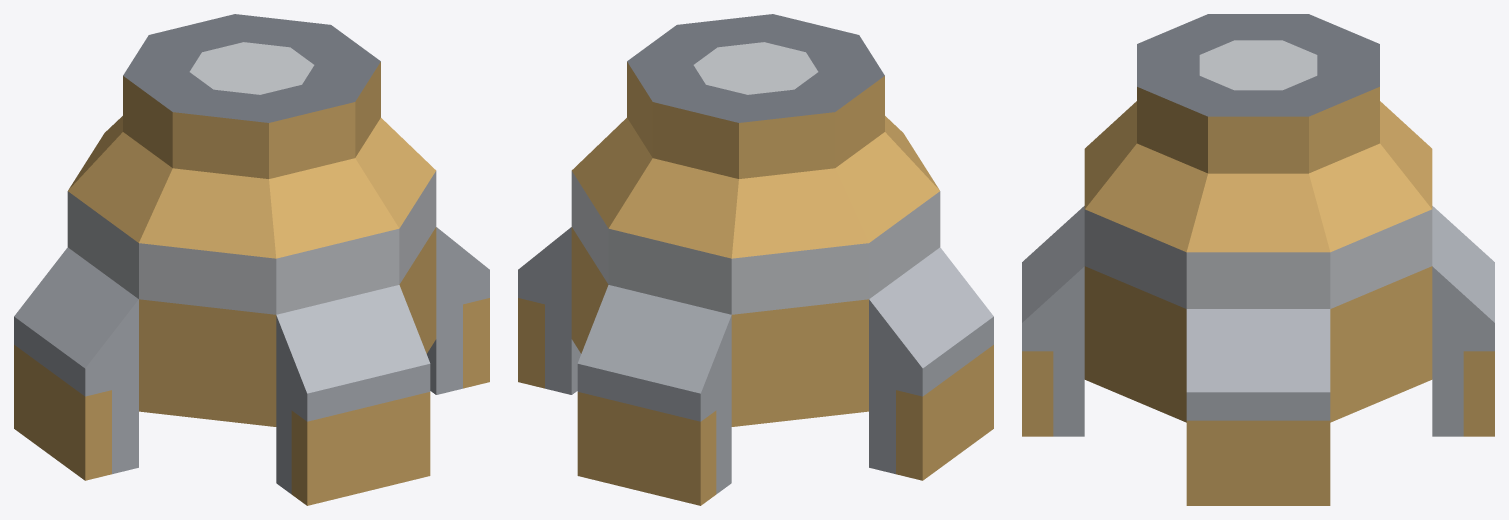
Rendered from machine_barrelLarge.glb.
3 views of the same model, side by side, from view 1: azimuth 30°, elevation 25°; view 2: azimuth 150°, elevation 25°; view 3: azimuth 270°, elevation 25° (orthographic).
Parts seen in each view (by area): view 1: machine_barrelLarge; view 2: machine_barrelLarge; view 3: machine_barrelLarge.
Boxes of the visible parts, box(x1,y1,x2,y2) form: machine_barrelLarge: box(14, 14, 489, 505); machine_barrelLarge: box(518, 14, 993, 505); machine_barrelLarge: box(1022, 14, 1494, 505).
Size of the model in its own units: 0.7543 by 0.6 by 0.7543.
